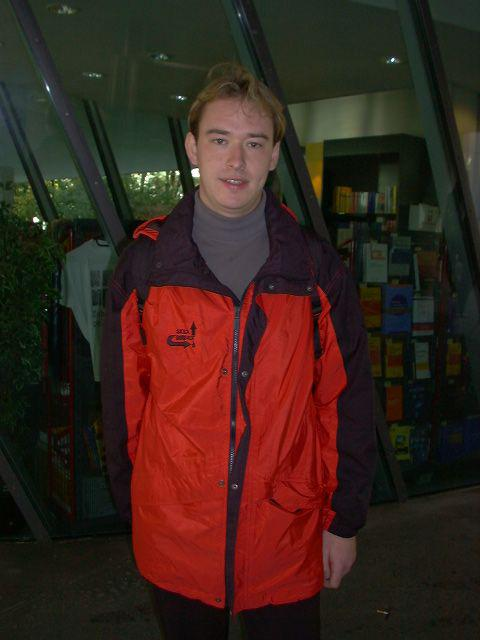Person: (101, 72, 379, 640)
